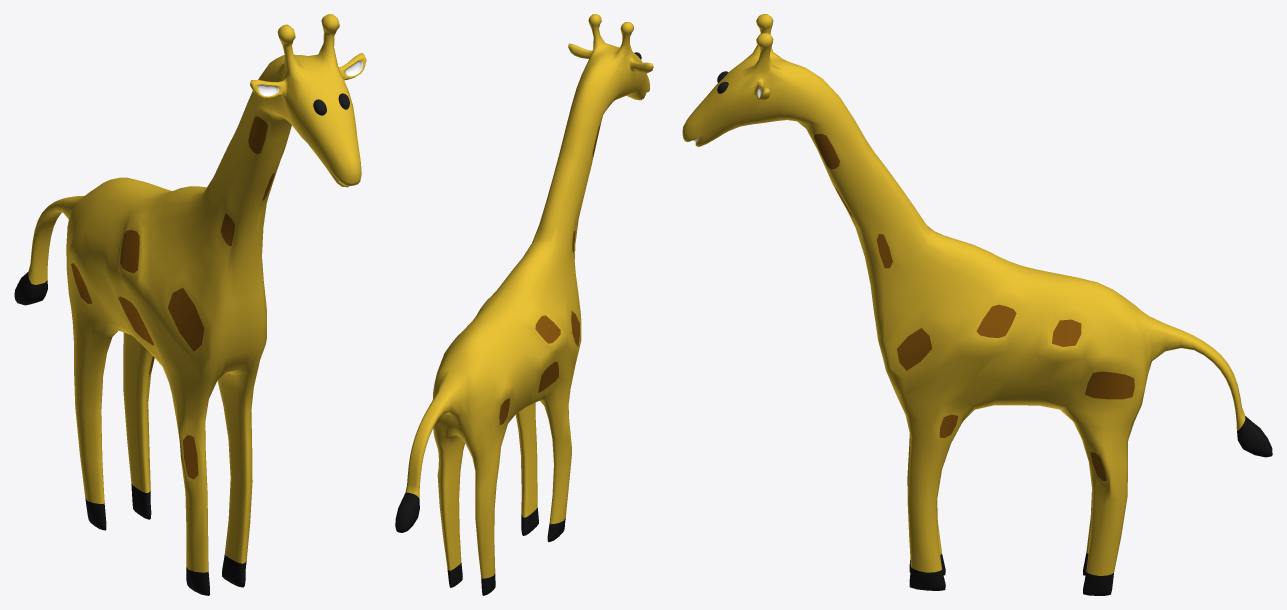
File: giraffe.glb
The picture shows the model from 3 angles, left to right: view 1: azimuth 30°, elevation 25°; view 2: azimuth 150°, elevation 25°; view 3: azimuth 270°, elevation 25°; orthographic projection. The views are drawn at different scales.
Visible parts, largest first — view 1: Plane; view 2: Plane; view 3: Plane.
Boxes of the visible parts, x1,y1,x2,y2 form: Plane: (14, 14, 366, 595); Plane: (395, 14, 653, 595); Plane: (682, 14, 1272, 595).
Size of the model in its own units: 0.4448 by 2.37 by 2.26.
